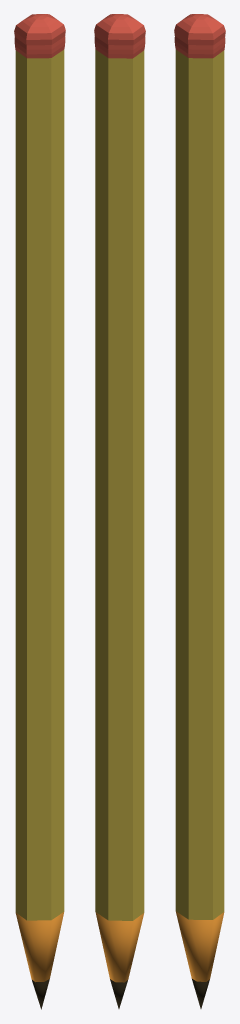
The model's file is lapiz.fbx.
The picture shows the model from 3 angles, left to right: view 1: azimuth 30°, elevation 25°; view 2: azimuth 150°, elevation 25°; view 3: azimuth 330°, elevation 25°; orthographic projection.
Parts seen in each view (by area): view 1: Cone; view 2: Cone; view 3: Cone.
Part boxes in pixels (x1,y1,x2,y2): Cone: [14, 14, 65, 1009]; Cone: [94, 14, 145, 1008]; Cone: [174, 14, 225, 1008].
Size of the model in its own units: 44.31 by 1061 by 46.87.
